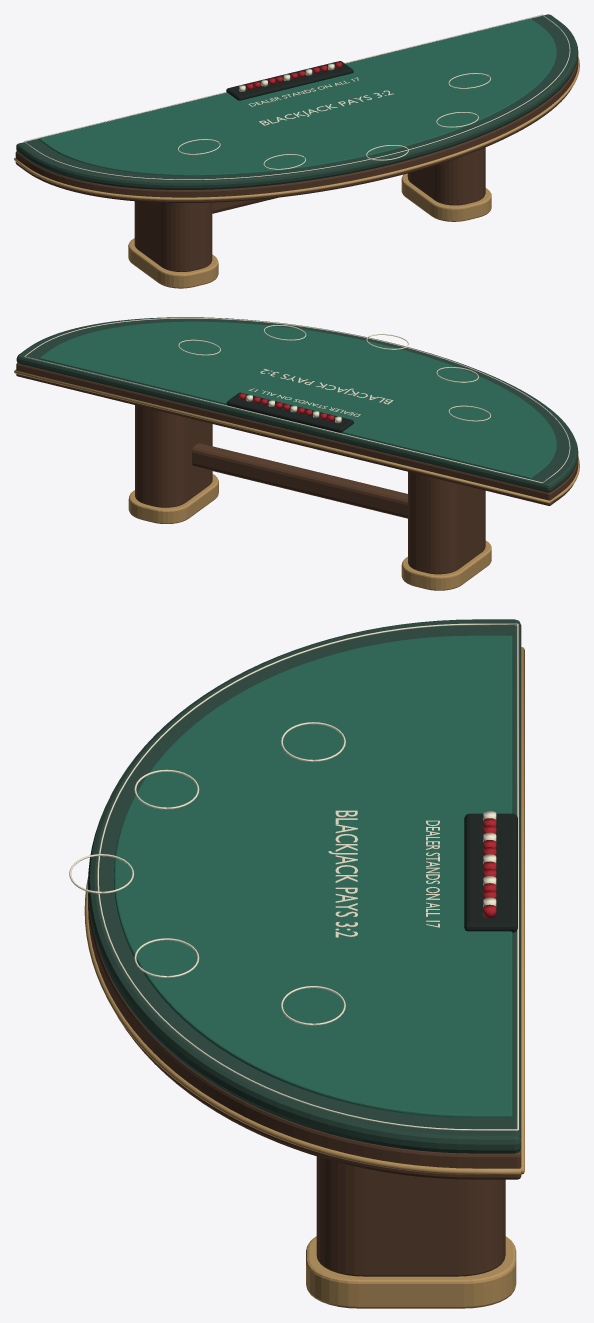
Rendered from blackjack-table.glb.
The picture shows the model from 3 angles, top to bottom: view 1: azimuth 30°, elevation 25°; view 2: azimuth 150°, elevation 25°; view 3: azimuth 270°, elevation 25°; orthographic projection. The views are drawn at different scales.
Parts seen in each view (by area): view 1: Meridian gaming felt.002, Meridian walnut.002, Meridian evergreen upholstery.002, Meridian brushed bronze.002, Meridian ivory marking.002, Meridian charcoal.002, Meridian roulette red.002; view 2: Meridian gaming felt.002, Meridian walnut.002, Meridian evergreen upholstery.002, Meridian brushed bronze.002, Meridian ivory marking.002, Meridian charcoal.002, Meridian roulette red.002; view 3: Meridian gaming felt.002, Meridian evergreen upholstery.002, Meridian walnut.002, Meridian brushed bronze.002, Meridian ivory marking.002, Meridian charcoal.002, Meridian roulette red.002.
Part boxes in pixels (x1,y1,x2,y2): Meridian gaming felt.002: (39,18,556,175); Meridian walnut.002: (15,57,578,271); Meridian evergreen upholstery.002: (16,14,578,189); Meridian brushed bronze.002: (14,56,579,288); Meridian ivory marking.002: (24,14,570,179); Meridian charcoal.002: (226,61,353,100); Meridian roulette red.002: (246,61,341,89); Meridian gaming felt.002: (39,321,556,478); Meridian walnut.002: (16,362,578,574); Meridian evergreen upholstery.002: (16,317,578,492); Meridian brushed bronze.002: (14,369,579,590); Meridian ivory marking.002: (24,318,570,483); Meridian charcoal.002: (226,392,353,432); Meridian roulette red.002: (239,393,334,421); Meridian gaming felt.002: (114,635,512,1117); Meridian evergreen upholstery.002: (88,619,521,1153); Meridian walnut.002: (88,894,521,1276); Meridian brushed bronze.002: (84,647,524,1308); Meridian ivory marking.002: (69,623,518,1130); Meridian charcoal.002: (464,813,517,932); Meridian roulette red.002: (483,818,496,918).
Bounding box in the file's own units: 4.73 × 1.21 × 1.73.
